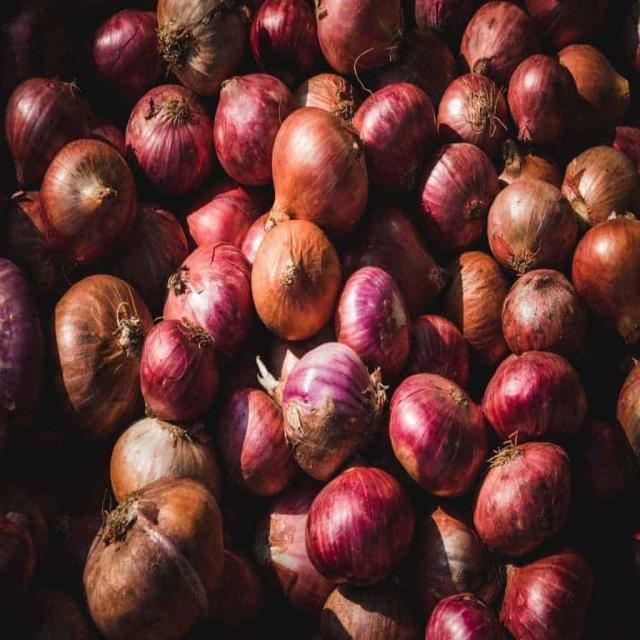ONIONS: (82, 482, 228, 635), (276, 335, 390, 488), (473, 434, 582, 558), (310, 463, 419, 585), (56, 275, 146, 422), (274, 102, 368, 236), (392, 375, 490, 488), (487, 153, 578, 270), (128, 78, 216, 194), (255, 218, 344, 332), (483, 350, 598, 438), (49, 143, 140, 254), (350, 78, 449, 178), (242, 494, 332, 604), (138, 313, 228, 420), (0, 242, 51, 426), (506, 556, 613, 640), (171, 252, 261, 351), (432, 248, 508, 364), (218, 76, 298, 186), (112, 416, 224, 494), (576, 198, 640, 334), (338, 258, 416, 364), (160, 0, 249, 92), (376, 195, 449, 305), (418, 498, 493, 600), (304, 575, 420, 640), (428, 132, 498, 238), (509, 50, 579, 155), (6, 62, 76, 166), (562, 128, 640, 217), (438, 64, 514, 154), (91, 8, 158, 105), (232, 388, 292, 495), (560, 40, 629, 128), (248, 1, 322, 78), (0, 465, 41, 600), (185, 183, 265, 244), (322, 0, 398, 62), (20, 571, 85, 640), (468, 5, 522, 84), (428, 585, 502, 640), (140, 200, 185, 282), (588, 412, 628, 494), (423, 308, 472, 372), (614, 342, 640, 455), (414, 0, 464, 57), (528, 0, 586, 38), (242, 203, 282, 252), (1, 5, 40, 53), (621, 522, 640, 618)
